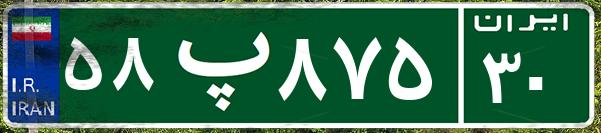0: (525, 38, 570, 115)
3: (475, 38, 525, 113)
5: (385, 28, 445, 110), (57, 26, 110, 107)
7: (330, 28, 385, 110)
8: (273, 28, 330, 110), (110, 28, 158, 105)
پ: (158, 15, 273, 115)
